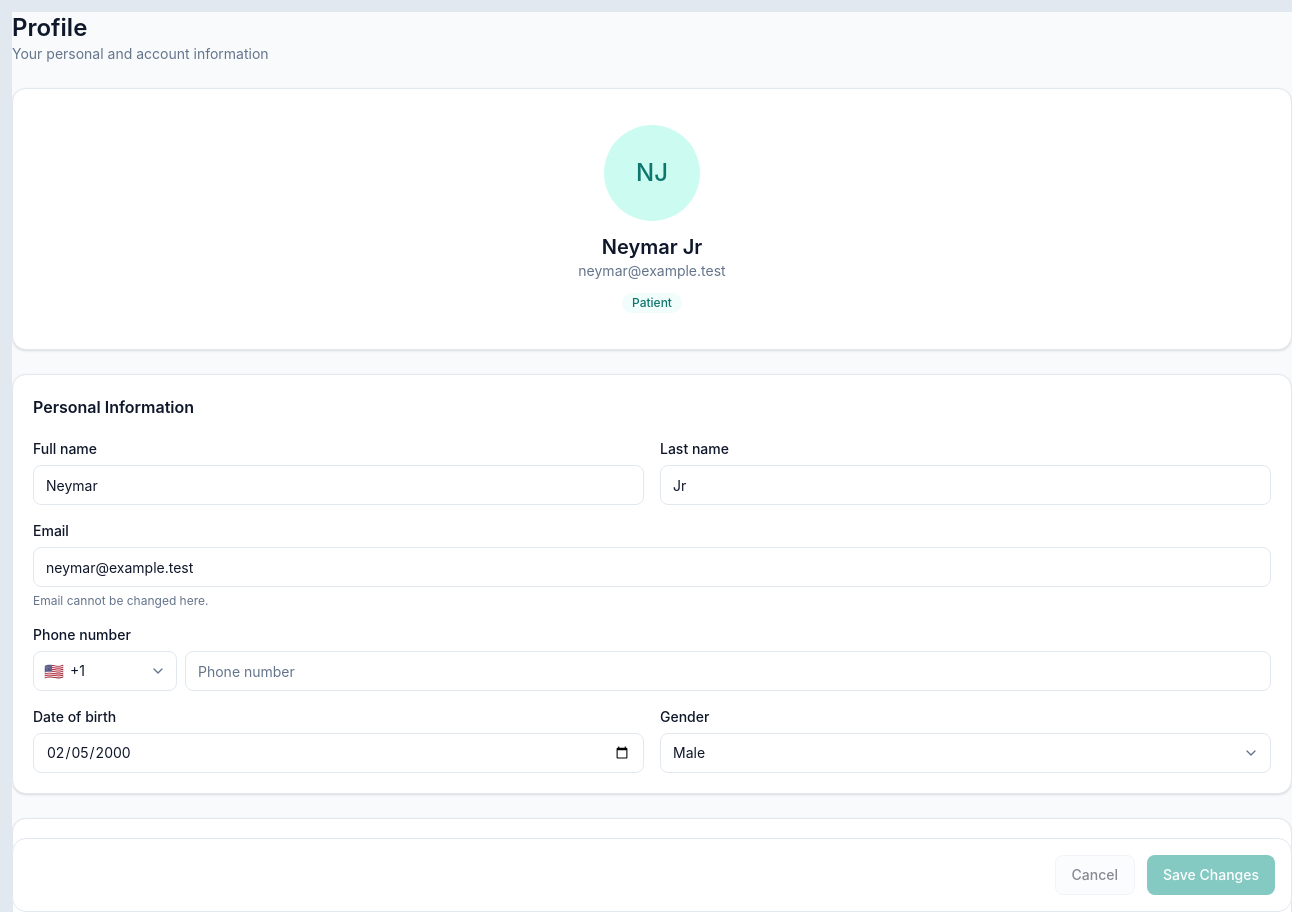
Scenario: PatientProfilePage › rejects an empty required field (first name) client-side
The image size is (1292, 912).
Clear the field labelled "Full name": (338, 485) top-left (33, 465), bottom-right (644, 505)
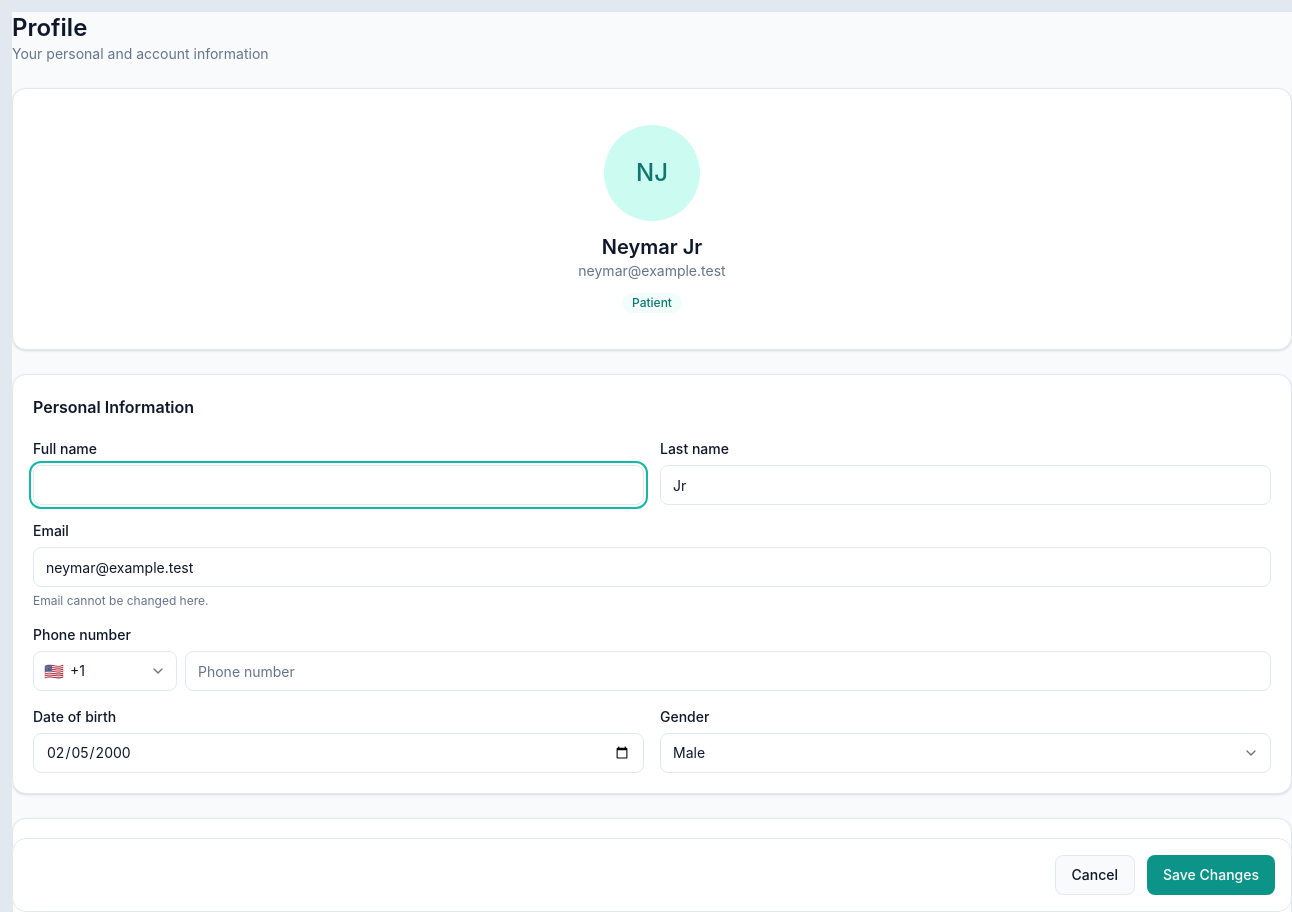
Click the button "Save Changes": (1211, 875) top-left (1147, 855), bottom-right (1275, 895)
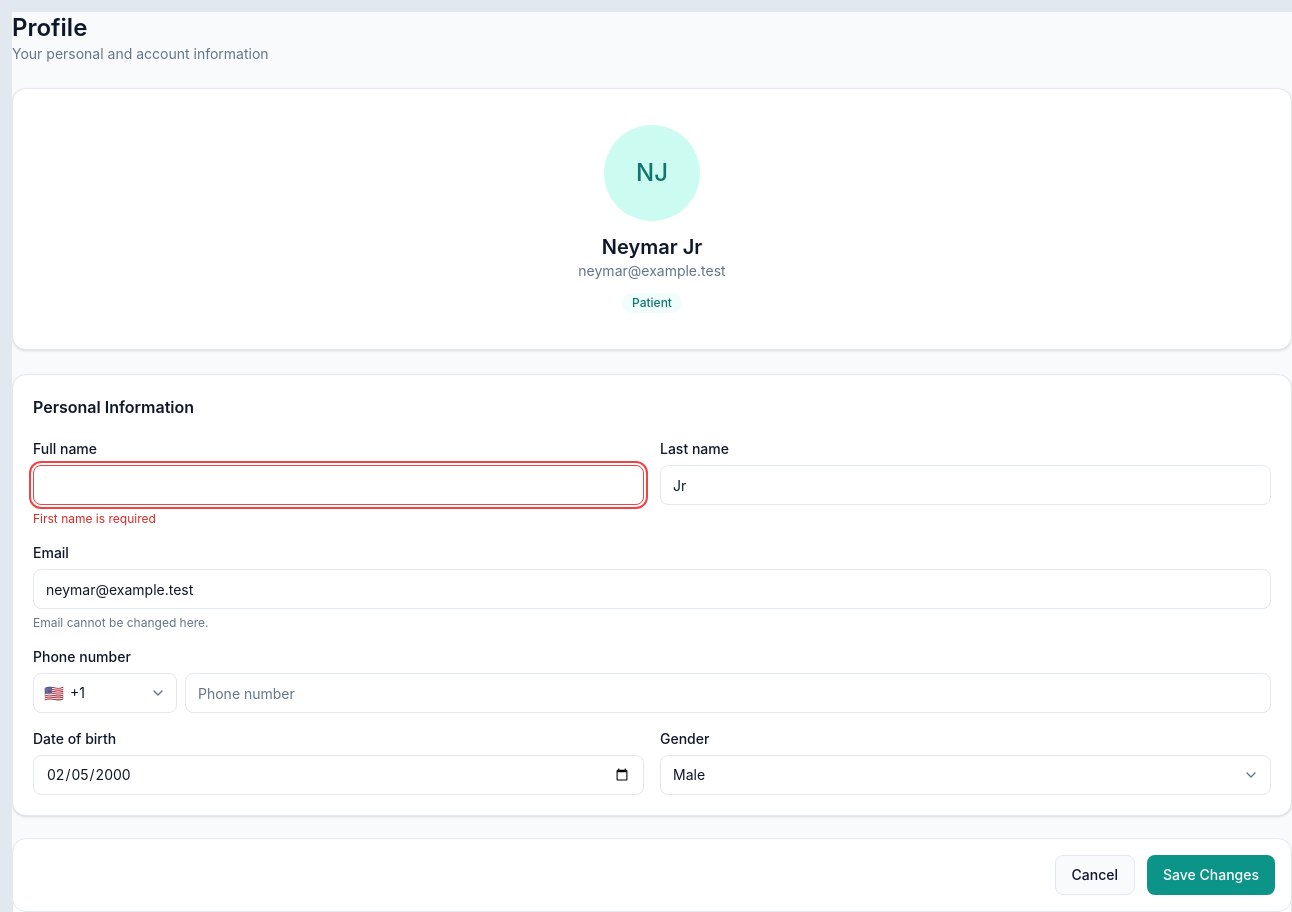
Expected: the text "First name is required" is shown, top-left (33, 511), bottom-right (156, 526)
